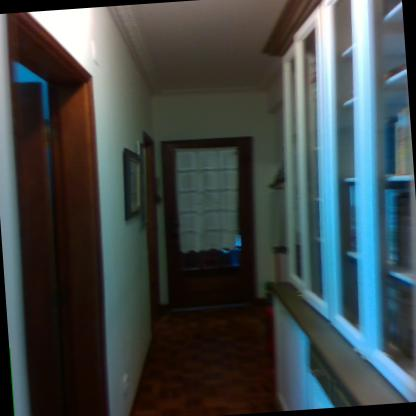closed: (150, 132, 274, 330)
open: (0, 7, 132, 415)
